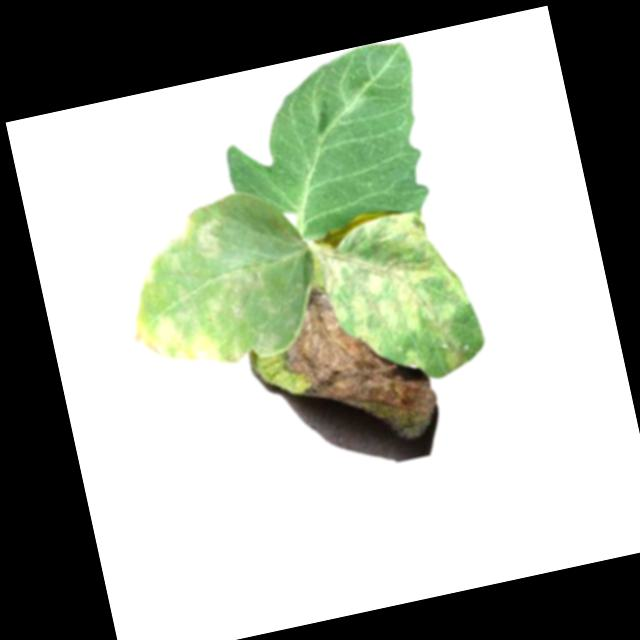Late_blight: (314, 200, 490, 398), (269, 263, 443, 461), (131, 300, 222, 378), (156, 207, 227, 270), (221, 261, 269, 297)
healthy: (207, 35, 447, 253)
